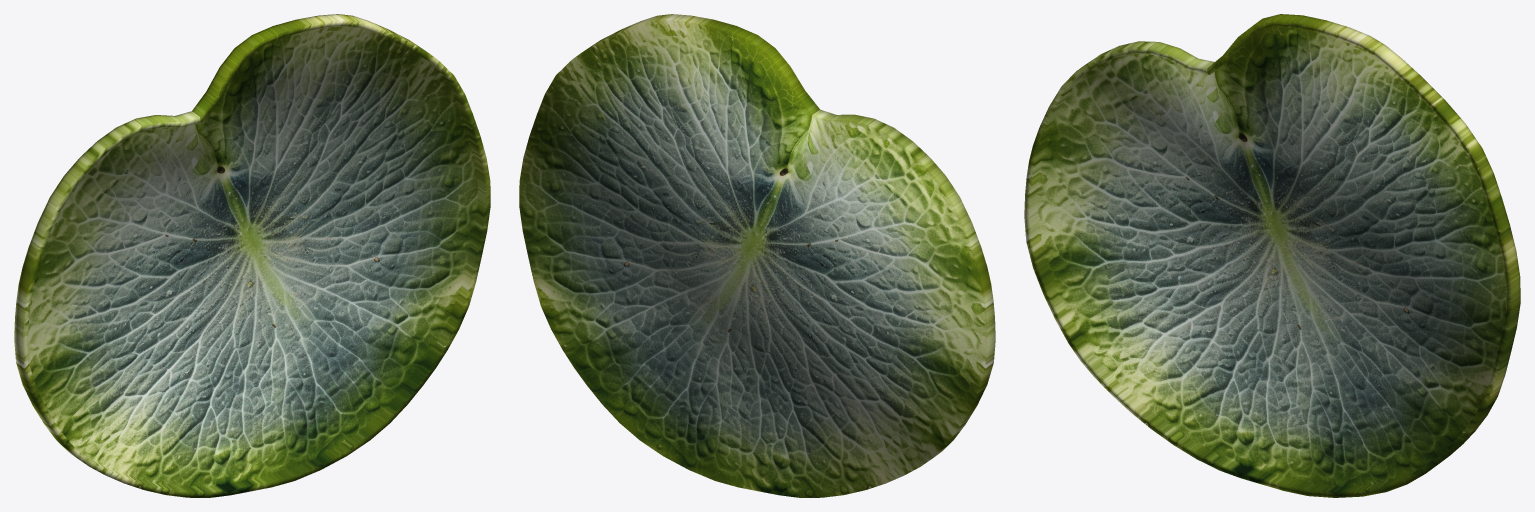
File: lilyPad.fbx
3 views of the same model, side by side, from view 1: azimuth 30°, elevation 25°; view 2: azimuth 150°, elevation 25°; view 3: azimuth 330°, elevation 25° (orthographic). The views are drawn at different scales.
Visible parts, largest first — view 1: Circle; view 2: Circle; view 3: Circle.
Part boxes in pixels (<box>): Circle: <box>14,14,490,497</box>; Circle: <box>519,14,995,497</box>; Circle: <box>1024,14,1520,497</box>.
Bounding box in the file's own units: 412 × 382 × 14.21.
